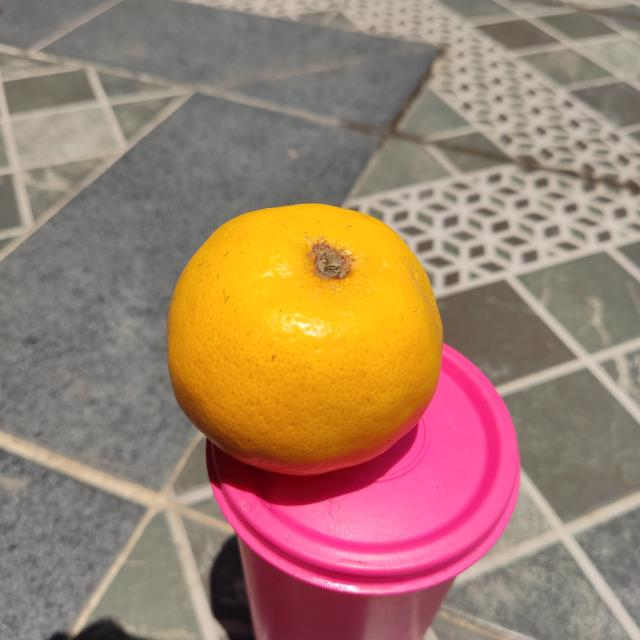orange: (166, 200, 442, 478)
